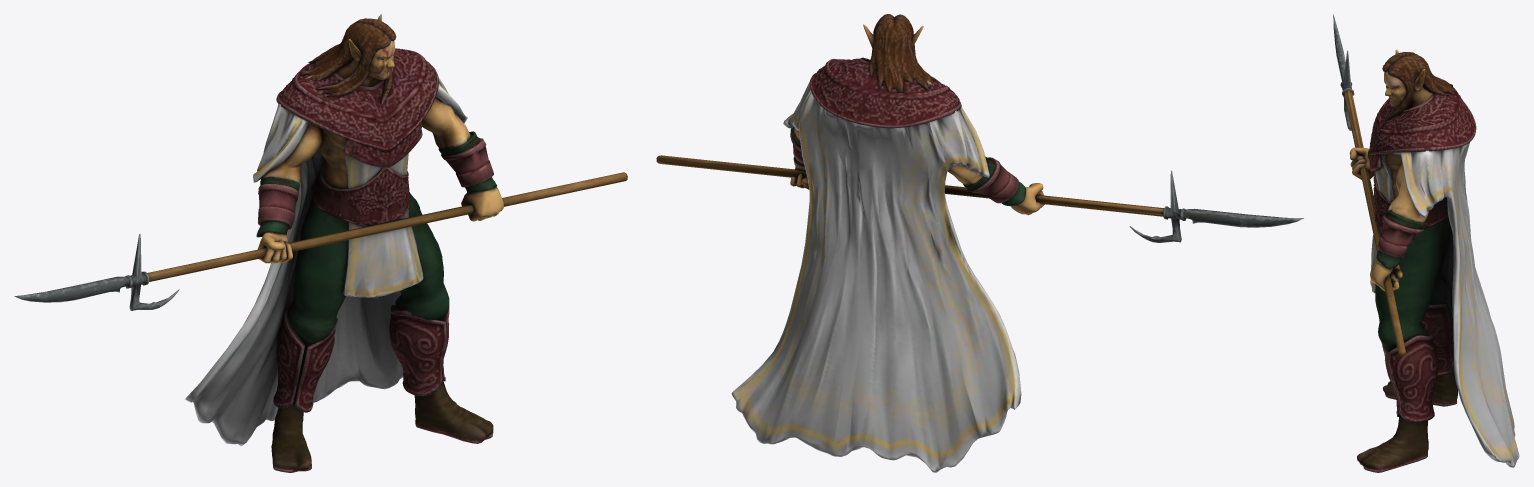
Rendered from MZ4250 - Shadow Fey Elf Guardian (Halsin).glb.
The picture shows the model from 3 angles, left to right: view 1: azimuth 30°, elevation 25°; view 2: azimuth 150°, elevation 25°; view 3: azimuth 270°, elevation 25°; orthographic projection. The views are drawn at different scales.
Parts seen in each view (by area): view 1: Shadow Fey Elf Guardian.001; view 2: Shadow Fey Elf Guardian.001; view 3: Shadow Fey Elf Guardian.001.
Part boxes in pixels (bbox=[...]): Shadow Fey Elf Guardian.001: bbox=[14, 14, 627, 472]; Shadow Fey Elf Guardian.001: bbox=[656, 14, 1303, 472]; Shadow Fey Elf Guardian.001: bbox=[1333, 14, 1519, 472].
Size of the model in its own units: 85.7 by 54.69 by 24.07.
1 material, 1 textured.
